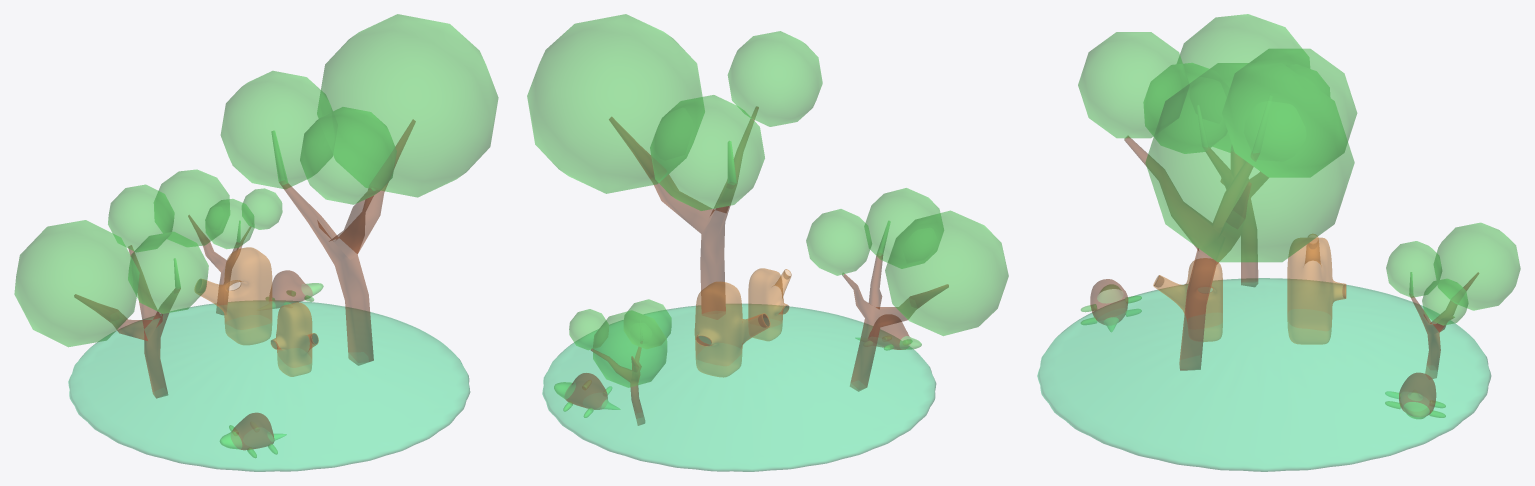
The model's file is Monkey Space.fbx.
3 views of the same model, side by side, from view 1: azimuth 30°, elevation 25°; view 2: azimuth 150°, elevation 25°; view 3: azimuth 270°, elevation 25° (orthographic). The views are drawn at different scales.
Parts seen in each view (by area): view 1: Monkey Space; view 2: Monkey Space; view 3: Monkey Space.
Boxes of the visible parts, box(x1,y1,x2,y2) form: Monkey Space: box(14, 14, 498, 471); Monkey Space: box(527, 14, 1008, 471); Monkey Space: box(1037, 14, 1520, 471).
Size of the model in its own units: 579 by 403 by 463.
